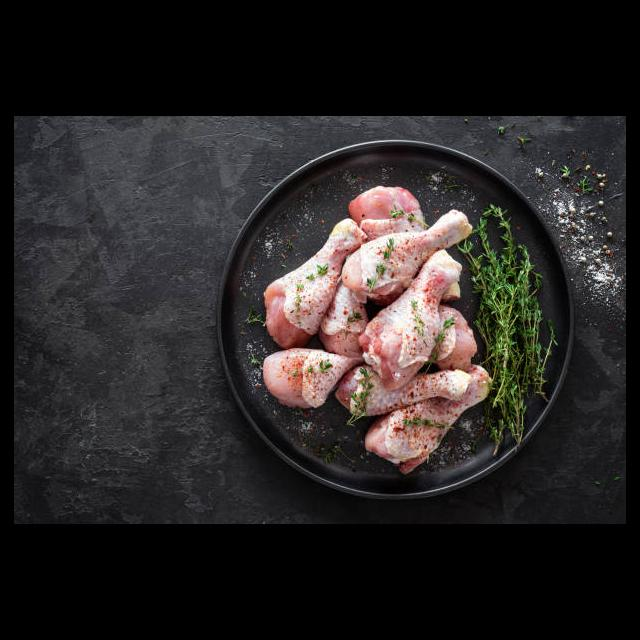chicken: (257, 187, 490, 474)
